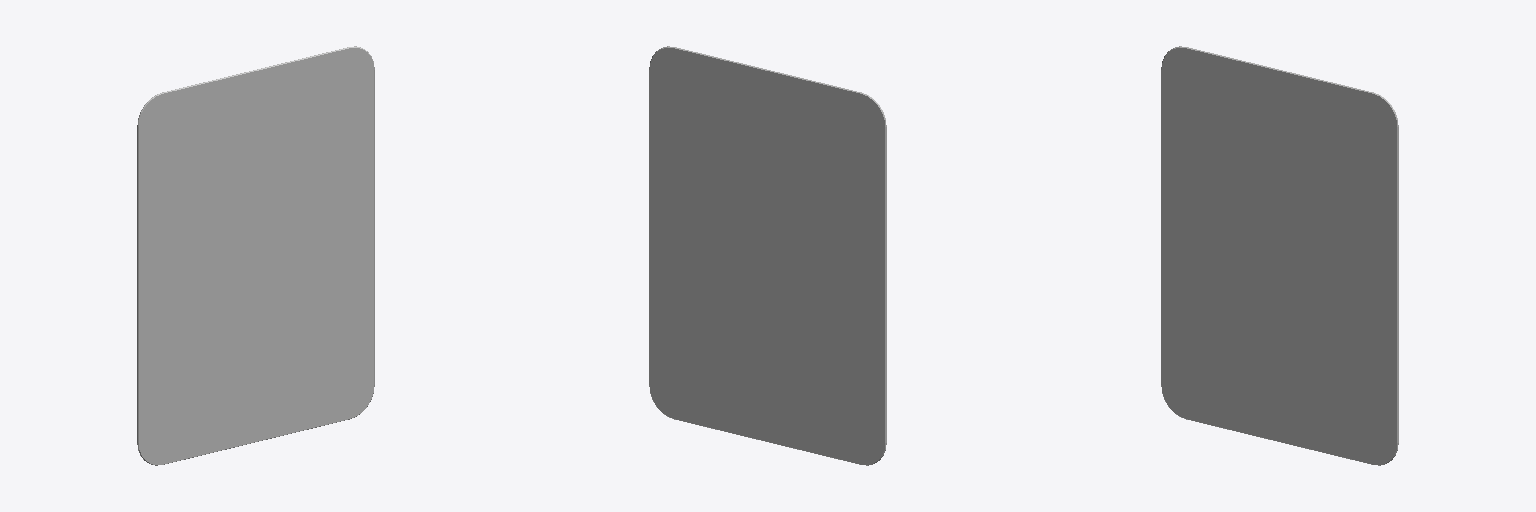
The model's file is card.obj.
3 views of the same model, side by side, from view 1: azimuth 30°, elevation 25°; view 2: azimuth 150°, elevation 25°; view 3: azimuth 330°, elevation 25° (orthographic).
Parts seen in each view (by area): view 1: Cube; view 2: Cube; view 3: Cube.
Boxes of the visible parts, box(x1,y1,x2,y2) form: Cube: box(137, 46, 374, 465); Cube: box(649, 46, 886, 465); Cube: box(1161, 46, 1398, 465).
Bounding box in the file's own units: 0.6 × 0.9 × 0.005.